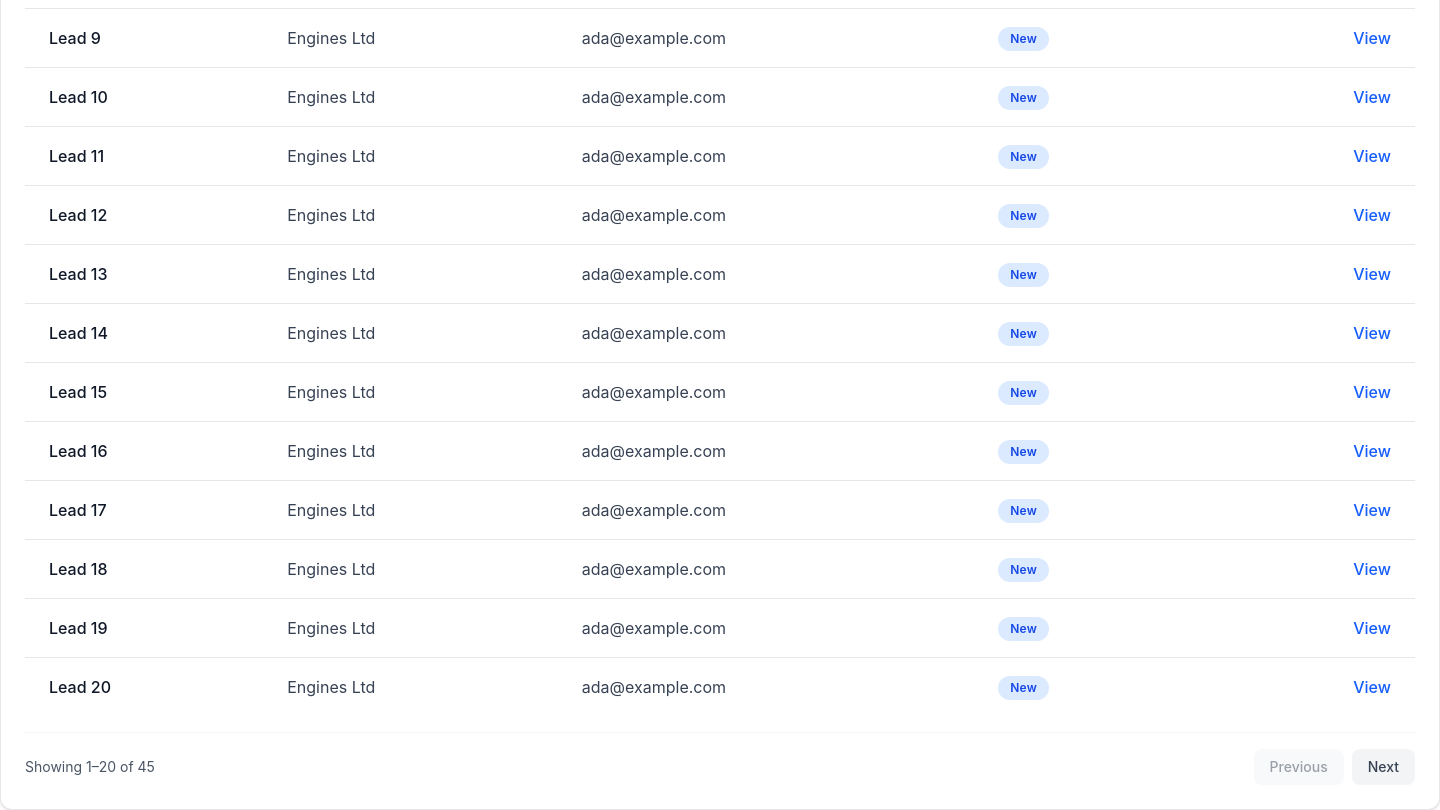
Test: LeadListPage pagination › moves to the next page and records it in the URL
(page scrolled)
Click the button "Next" at (1383, 767), box [1352,749,1415,785]
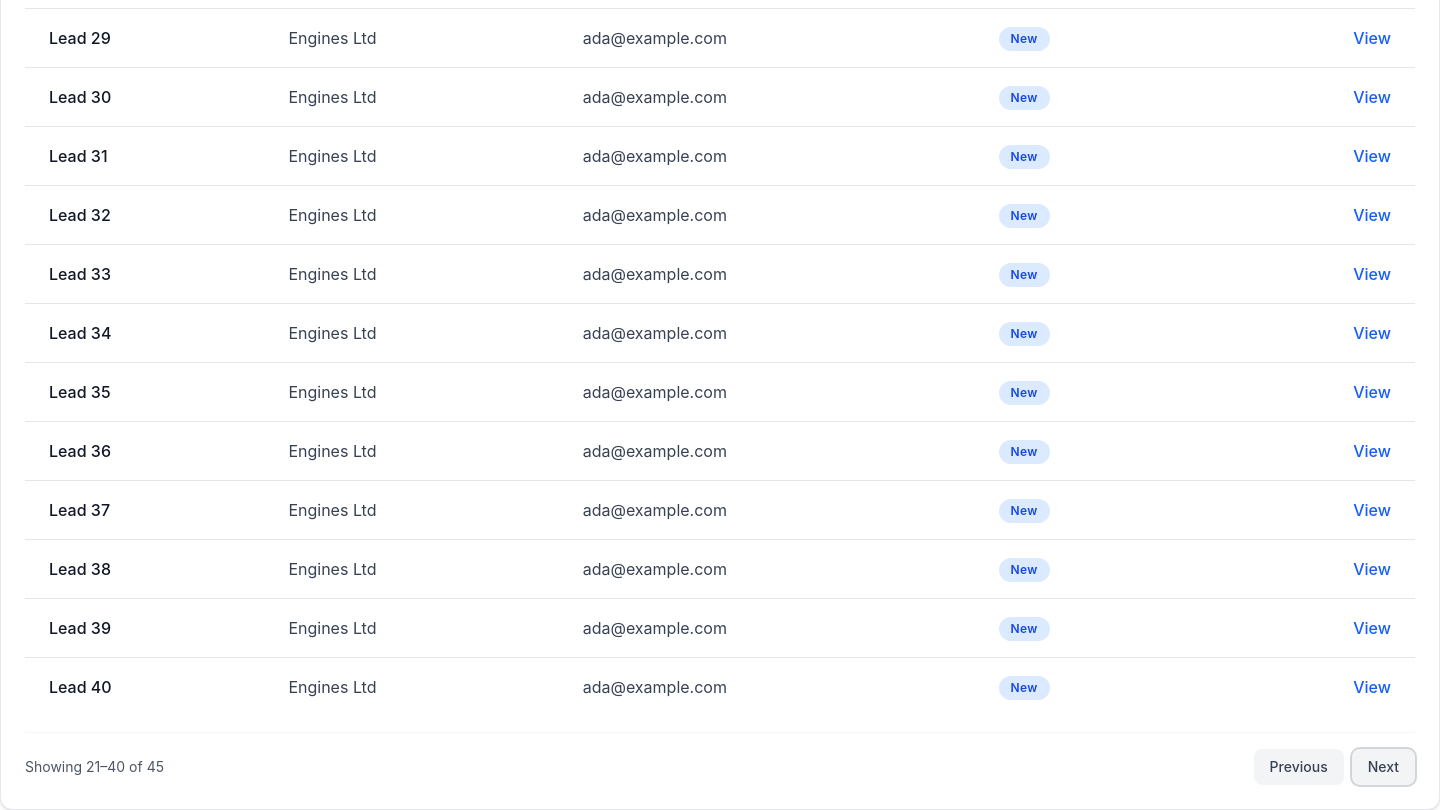
Expected: the text "Lead 1" is gone
Expected: the text "Showing 21–40 of 45" is shown, [25,757,164,777]
